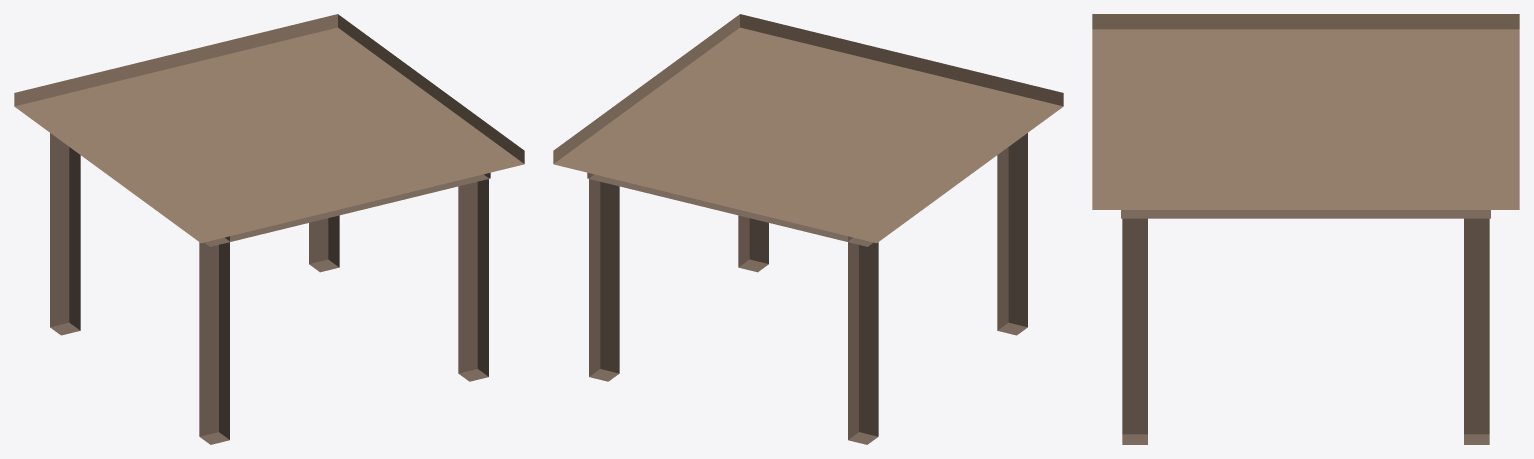
File: table4.glb
The picture shows the model from 3 angles, left to right: view 1: azimuth 30°, elevation 25°; view 2: azimuth 150°, elevation 25°; view 3: azimuth 270°, elevation 25°; orthographic projection. The views are drawn at different scales.
Parts seen in each view (by area): view 1: top, frame; view 2: top, frame; view 3: top, frame.
Boxes of the visible parts, x1,y1,x2,y2 form: top: [14, 14, 524, 243]; frame: [50, 133, 490, 444]; top: [553, 14, 1063, 243]; frame: [587, 133, 1027, 444]; top: [1092, 14, 1519, 209]; frame: [1121, 210, 1490, 444].
Size of what is drawn, in the model's own units: 1.5 by 1.02 by 1.5.
